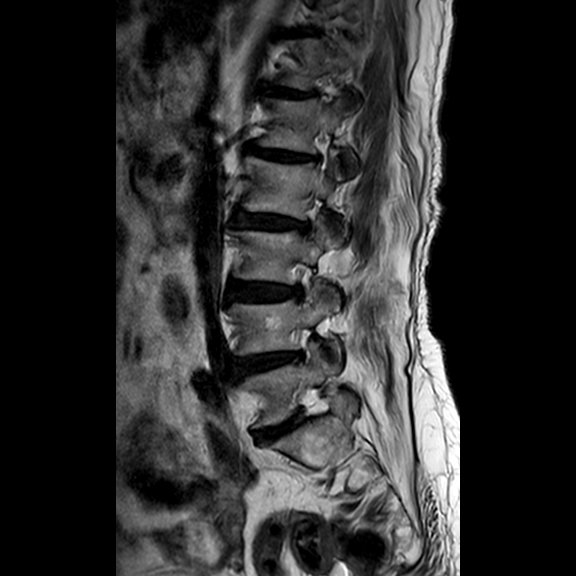RFS0: (281, 318, 327, 371), (299, 122, 340, 180)
